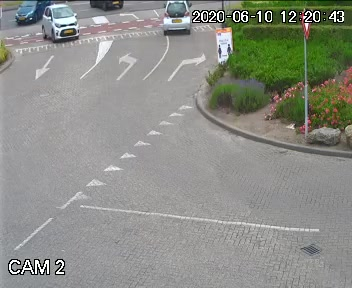car: (32, 4, 80, 46), (156, 1, 196, 32), (13, 0, 52, 27)
